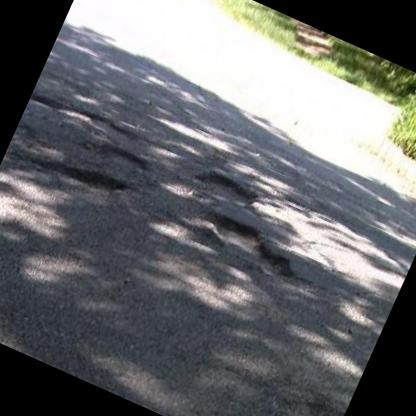pothole: (200, 207, 306, 284), (60, 154, 130, 204), (194, 162, 263, 207)
